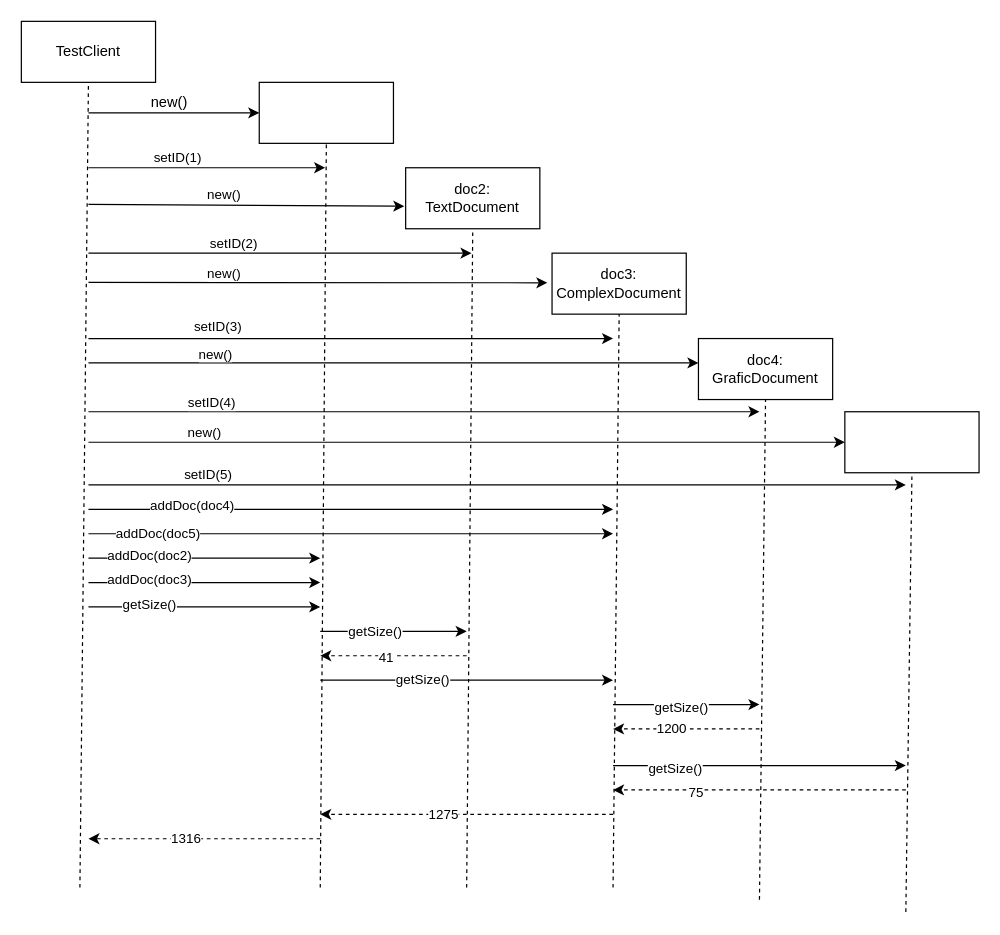
Some shapes in this 1000 by 935 pixel diagram are drawn without their labels. Each missing label, with the centre of its shape:
"doc0: ComplexDocument" belongs at [325,112].
"doc5: TextDocument" belongs at [911,442].
